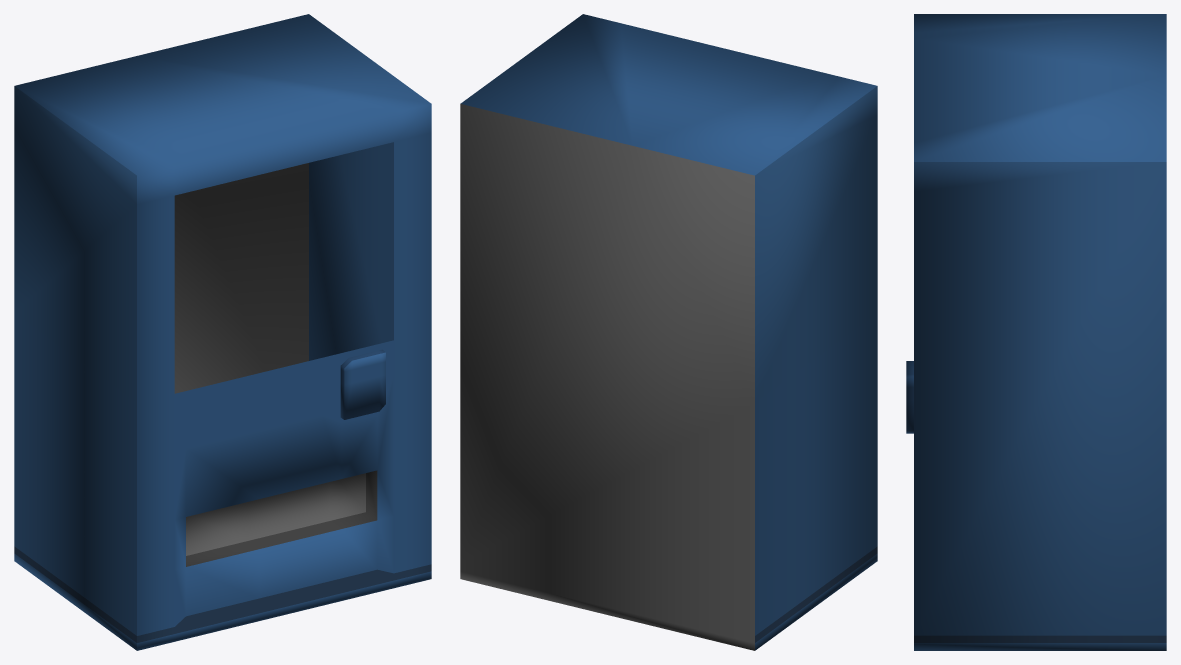
3 renders of one model, left to right at view 1: azimuth 30°, elevation 25°; view 2: azimuth 150°, elevation 25°; view 3: azimuth 270°, elevation 25°, orthographic. The views are drawn at different scales.
Parts seen in each view (by area): view 1: color.010; view 2: color.010; view 3: color.010.
Boxes of the visible parts, x1=… form: color.010: x1=14, y1=14, x2=431, y2=650; color.010: x1=460, y1=14, x2=877, y2=650; color.010: x1=906, y1=14, x2=1166, y2=650.
Size of the model in its own units: 0.3242 by 0.5 by 0.241.
